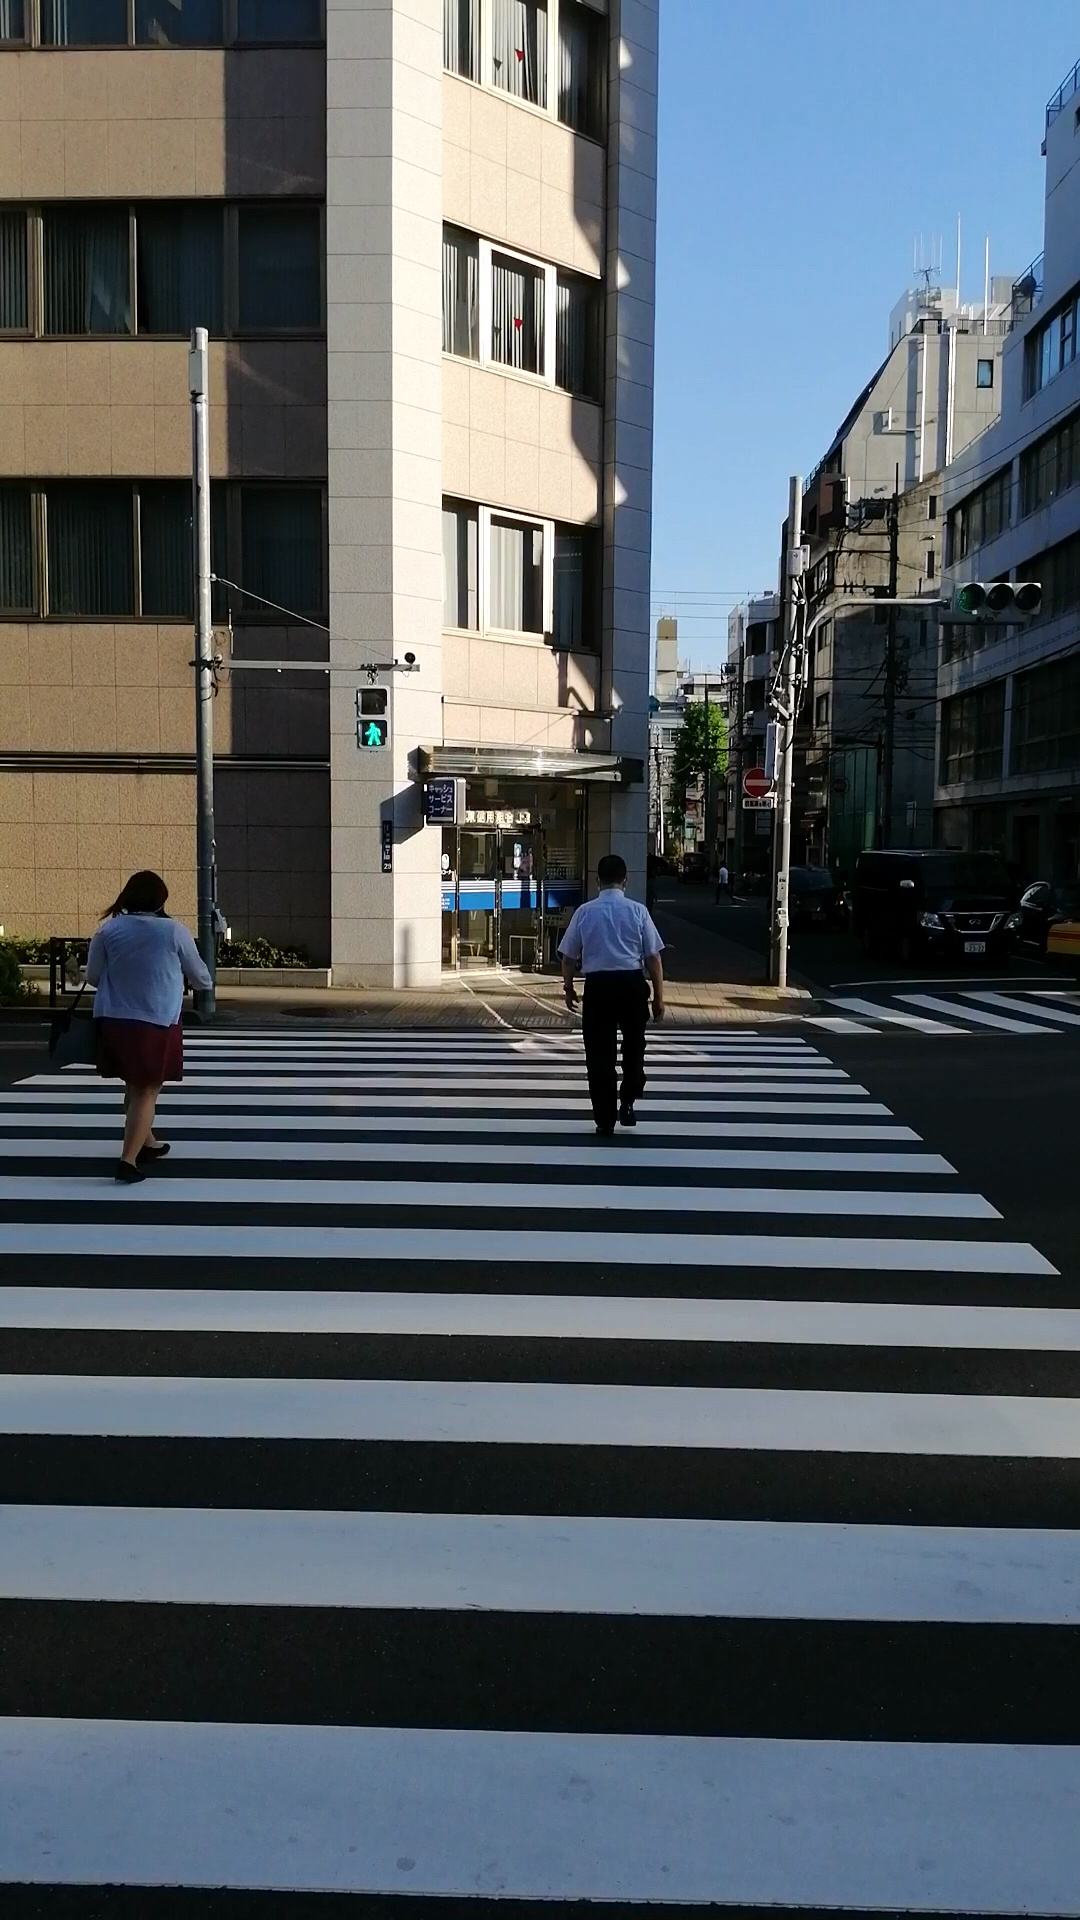green: (351, 680, 392, 753)
